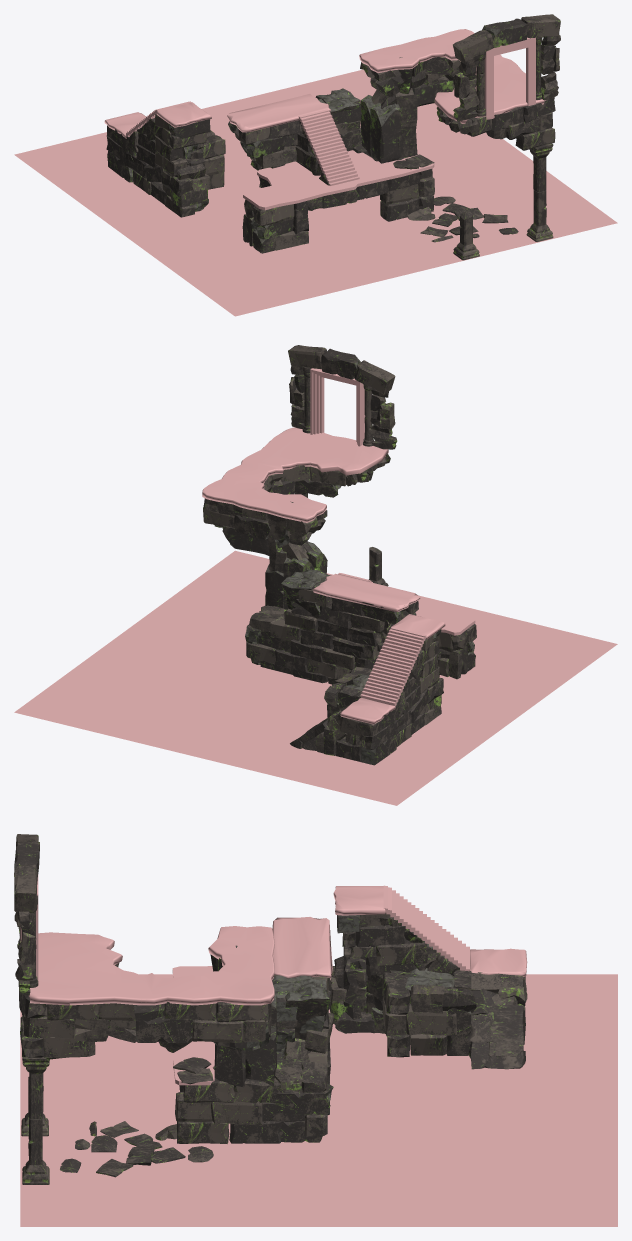
File: stage04.fbx
3 renders of one model, top to bottom at view 1: azimuth 30°, elevation 25°; view 2: azimuth 150°, elevation 25°; view 3: azimuth 270°, elevation 25°, orthographic. The views are drawn at different scales.
Parts seen in each view (by area): view 1: stage0404, stage0408, stage0403, stage0402, stage0401, sozai_2_127, stage0409, sozai_2_230, sozai_2_303, stage0405, sozai_2_305, sozai_2_213 (+28 smaller); view 2: stage0404, stage0408, stage0406, stage0401, stage0409, sozai_2_232, stage0403, stage0407, sozai_2_303, sozai_2_305, sozai_2_244, sozai_2_304 (+3 smaller); view 3: stage0404, stage0408, stage0401, stage0406, sozai_2_208, stage0407, stage0405, sozai_2_108, stage0403, sozai_2_245, sozai_2_38, sozai_2_213 (+41 smaller).
Part boxes in pixels (box(x1,y1,x2,y2)): stage0404: box(14, 69, 617, 316); stage0408: box(359, 29, 546, 123); stage0403: box(243, 150, 434, 210); stage0402: box(298, 109, 359, 185); stage0401: box(227, 94, 330, 132); sozai_2_127: box(370, 102, 400, 163); stage0409: box(484, 37, 535, 116); sozai_2_230: box(395, 88, 417, 157); sozai_2_303: box(482, 18, 527, 47); stage0405: box(156, 102, 211, 127); sozai_2_305: box(453, 30, 493, 61); sozai_2_213: box(526, 190, 553, 241); stage0404: box(14, 550, 617, 805); stage0408: box(202, 427, 388, 522); stage0406: box(360, 627, 426, 705); stage0401: box(313, 573, 420, 611); stage0409: box(310, 368, 365, 446); sozai_2_232: box(267, 513, 289, 573); stage0403: box(415, 603, 475, 635); stage0407: box(340, 698, 395, 724); sozai_2_303: box(321, 348, 360, 379); sozai_2_305: box(354, 360, 395, 394); sozai_2_244: box(222, 525, 269, 555); sozai_2_304: box(288, 345, 326, 369); stage0404: box(20, 974, 617, 1226); stage0408: box(28, 926, 274, 1005); stage0401: box(272, 917, 332, 978); stage0406: box(383, 885, 469, 971); sozai_2_208: box(488, 1004, 523, 1056); stage0407: box(469, 948, 527, 976); stage0405: box(333, 886, 385, 915); sozai_2_108: box(285, 979, 330, 1039); stage0403: box(172, 966, 214, 1085); sozai_2_245: box(135, 1016, 193, 1042); sozai_2_38: box(275, 1084, 333, 1114); sozai_2_213: box(22, 1117, 49, 1184).
Bounding box in the file's own units: 1715 × 1035 × 1733.
